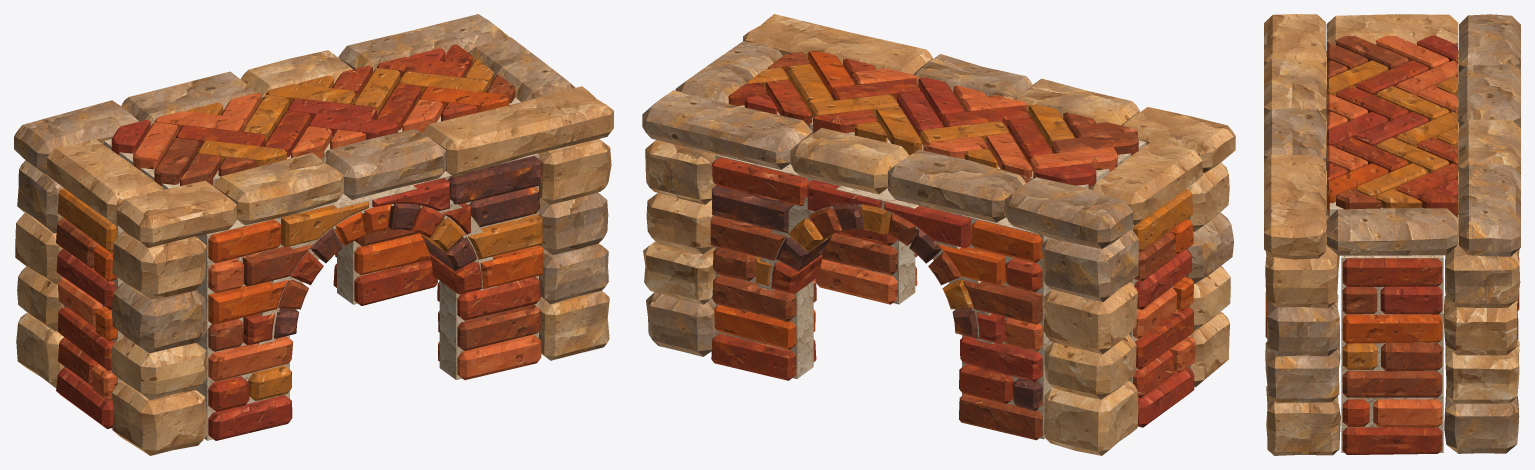
The model's file is foundation_half__clay_brick.glb.
3 views of the same model, side by side, from view 1: azimuth 30°, elevation 25°; view 2: azimuth 150°, elevation 25°; view 3: azimuth 270°, elevation 25° (orthographic). The views are drawn at different scales.
Visible parts, largest first — view 1: model; view 2: model; view 3: model.
Boxes of the visible parts, left/top/right/bottom form: model: left=14, top=14, right=613, bottom=455; model: left=642, top=14, right=1235, bottom=455; model: left=1264, top=14, right=1520, bottom=455.
Size of the model in its own units: 1.99 by 0.986 by 0.986.
Materials: 14 (14 with a texture image).
